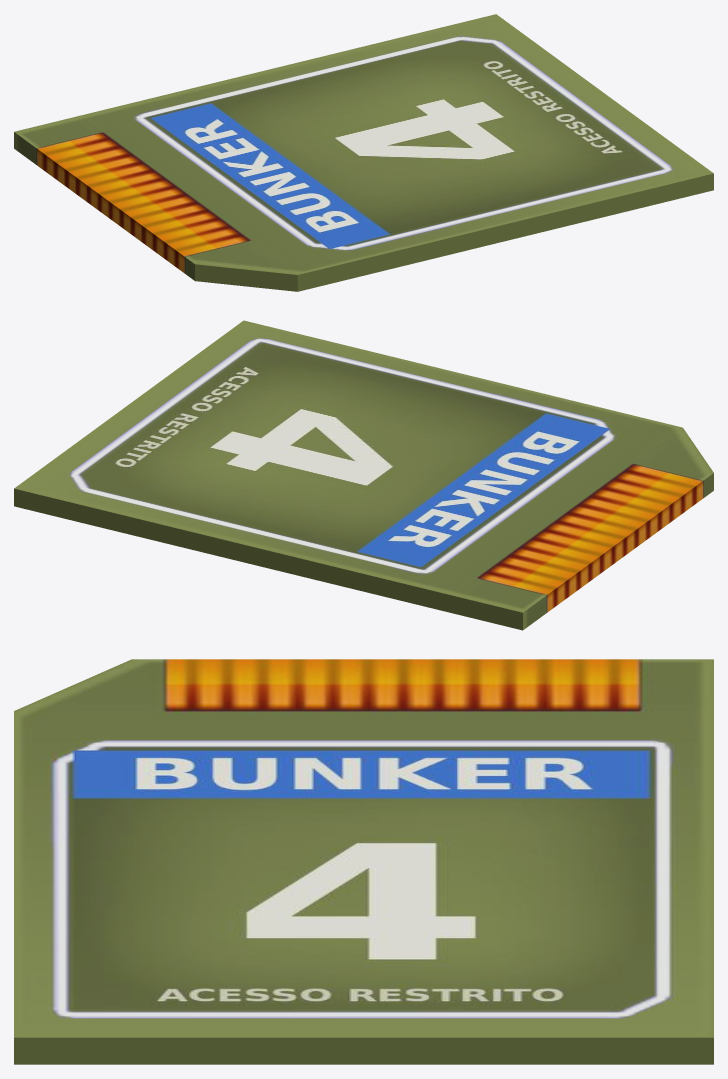
Rendered from cartao_bunker_4.glb.
3 views of the same model, one above another, from view 1: azimuth 30°, elevation 25°; view 2: azimuth 150°, elevation 25°; view 3: azimuth 270°, elevation 25° (orthographic). The views are drawn at different scales.
Parts seen in each view (by area): view 1: cartao; view 2: cartao; view 3: cartao.
Part boxes in pixels (x1,y1,x2,y2): cartao: [14, 14, 713, 291]; cartao: [14, 320, 713, 630]; cartao: [14, 659, 713, 1064].
Bounding box in the file's own units: 0.086 × 0.00287 × 0.0672.
1 material, 1 textured.
